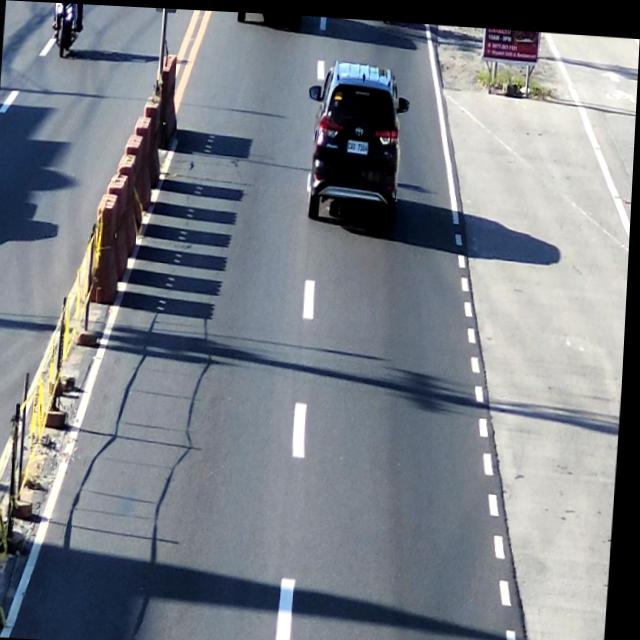Car: (308, 55, 408, 227)
License-Plate: (346, 134, 372, 153)
